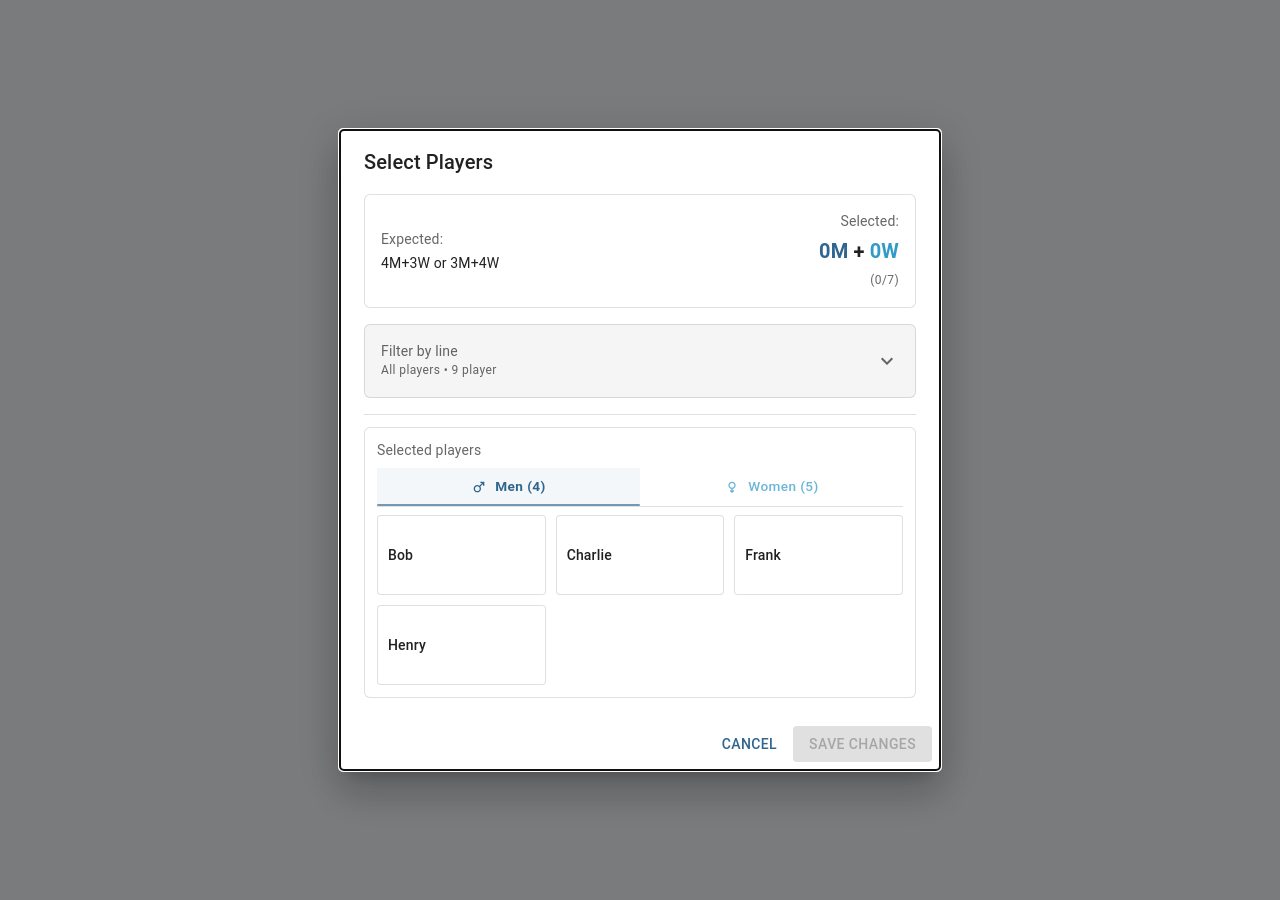
Test case: ManagePlayersDialog › Validation › disables save button with invalid player count
Expected: the text "Bob" is shown, [388,547,413,563]
Select only 3 players (not enough)
Click the button "Bob". click: x=461, y=555
box: [378,516,545,594]
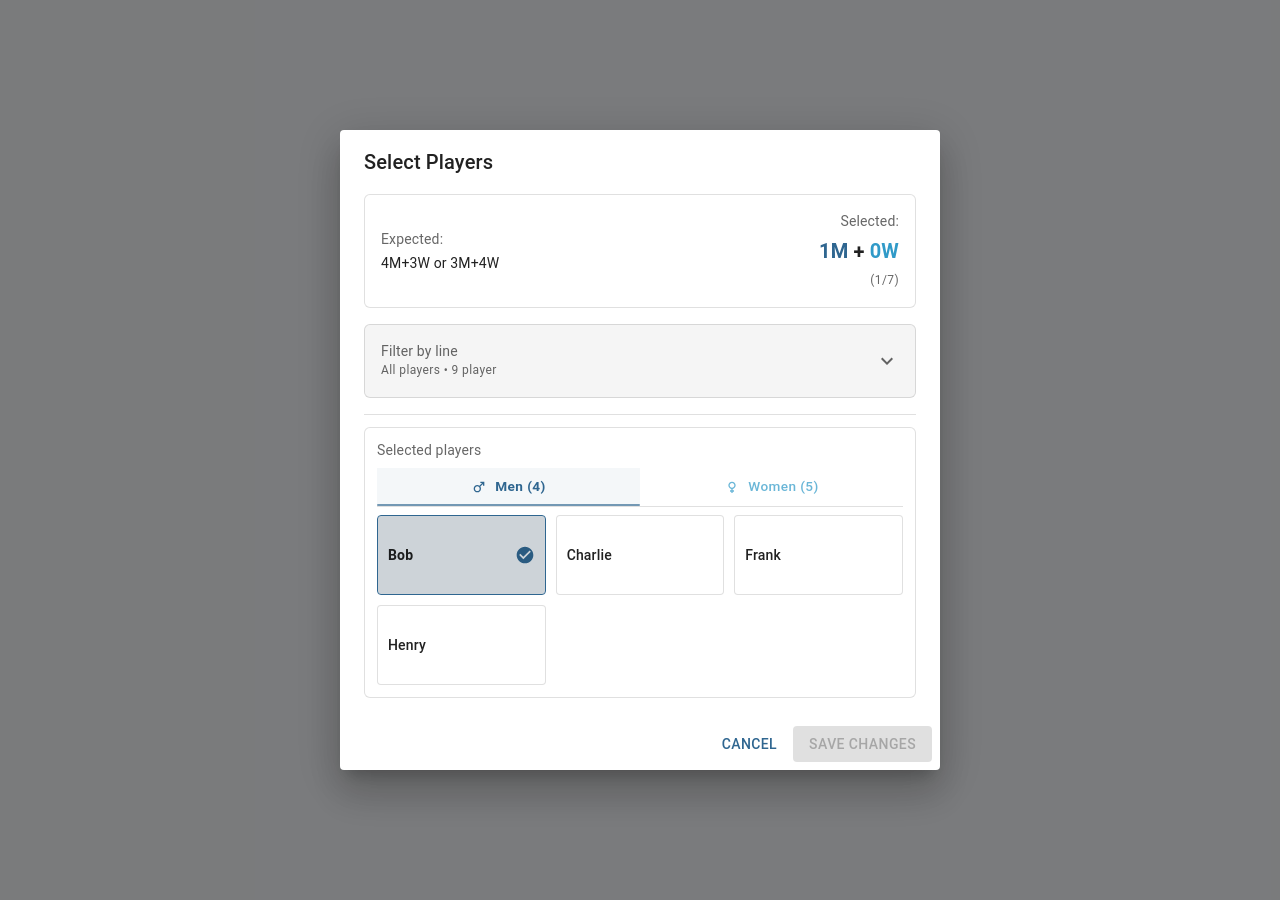
Click the button "Charlie". click: x=640, y=555
box: [557,516,723,594]
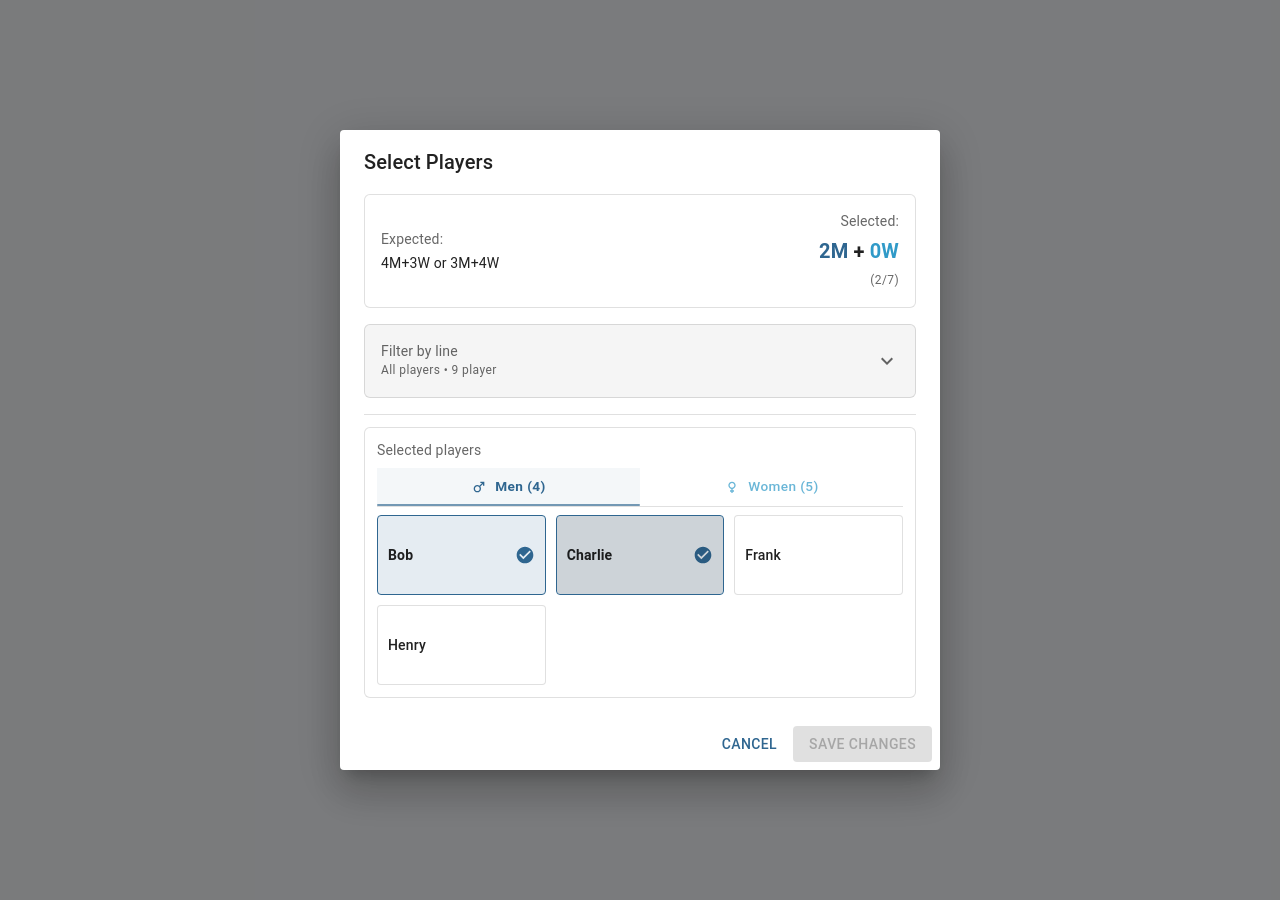
Click the button "Frank". click: x=819, y=555
box: [735,516,902,594]
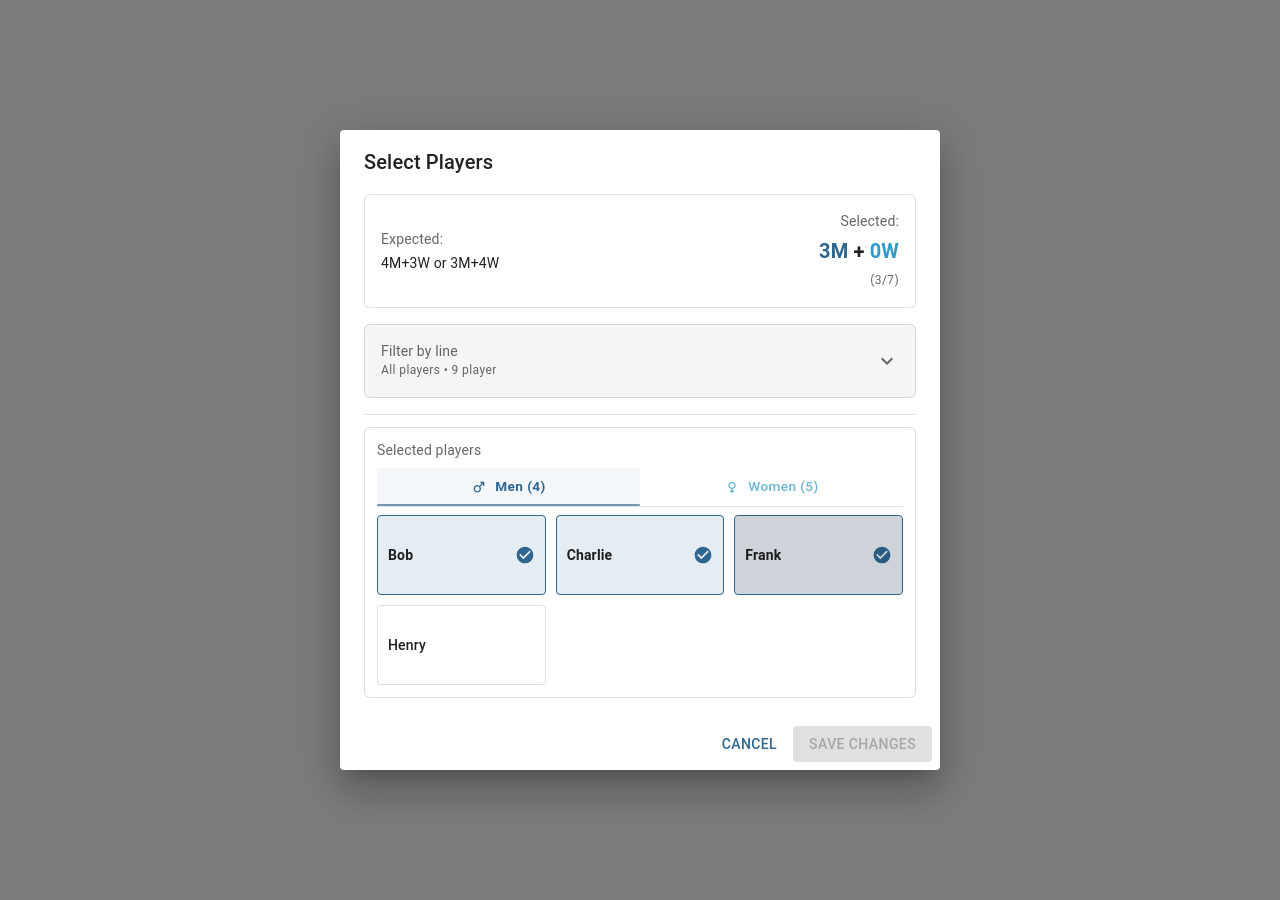
Expected: the button "Save Changes" is disabled, [793,726,932,762]
Expected: the text "(3/7)" is shown, [870,273,899,287]
